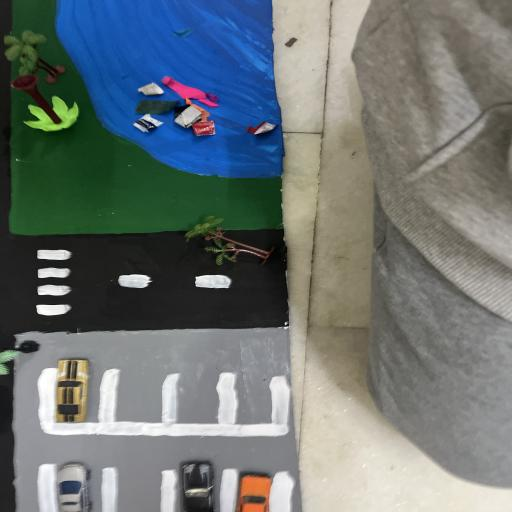fallen trees: (180, 214, 276, 266), (13, 74, 81, 132)
trash: (133, 78, 274, 138)
